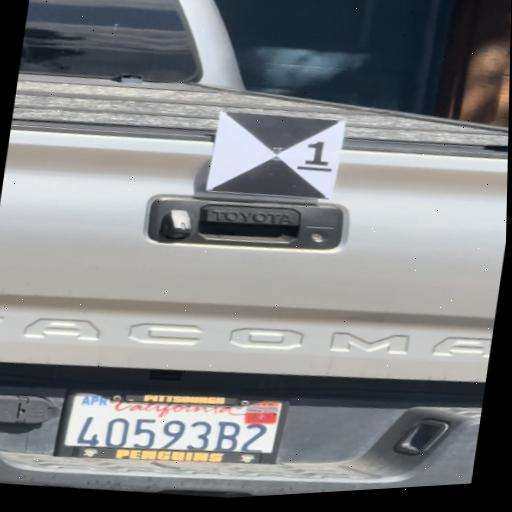target1: (211, 104, 342, 206)
